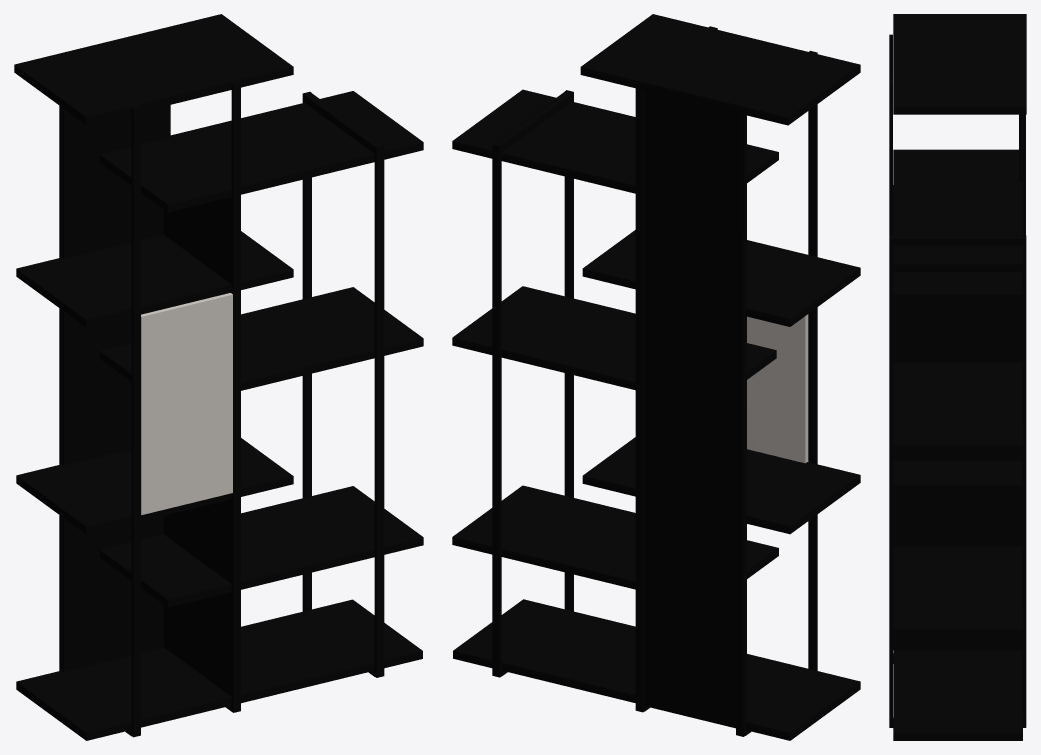
Rendered from MEGA_PACK_Shelf__shelf-157369.glb.
3 renders of one model, left to right at view 1: azimuth 30°, elevation 25°; view 2: azimuth 150°, elevation 25°; view 3: azimuth 270°, elevation 25°, orthographic. The views are drawn at different scales.
Visible parts, largest first — view 1: shelf-157369; view 2: shelf-157369; view 3: shelf-157369.
Part boxes in pixels (x1,y1,x2,y2): shelf-157369: (14,14,423,740); shelf-157369: (452,14,860,740); shelf-157369: (889,14,1026,740).
Size of the model in its own units: 1.1 by 1.96 by 0.42.
Materials: 1 (1 with a texture image).
